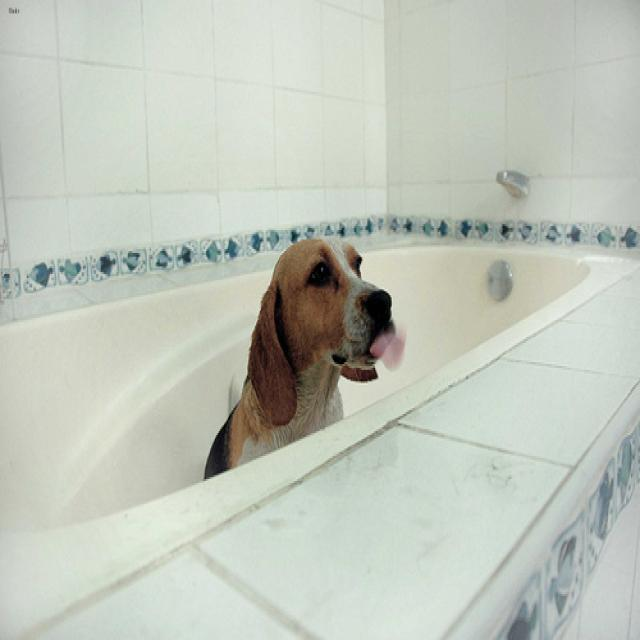dog-beagle: (193, 228, 412, 502)
